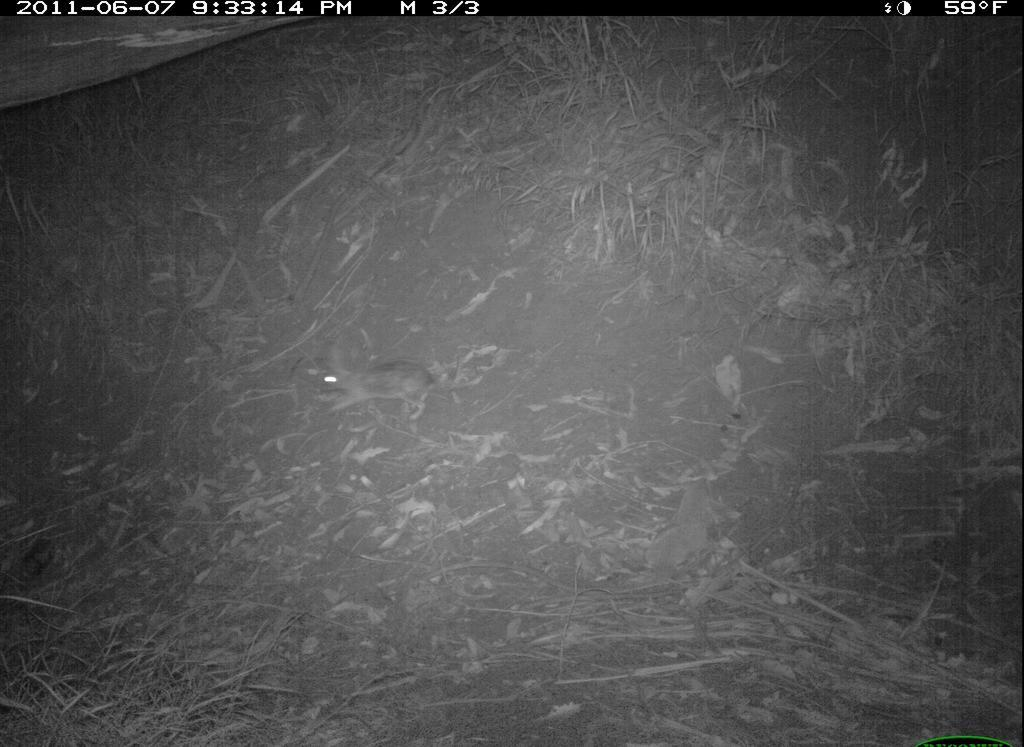rabbit: (306, 331, 443, 429)
